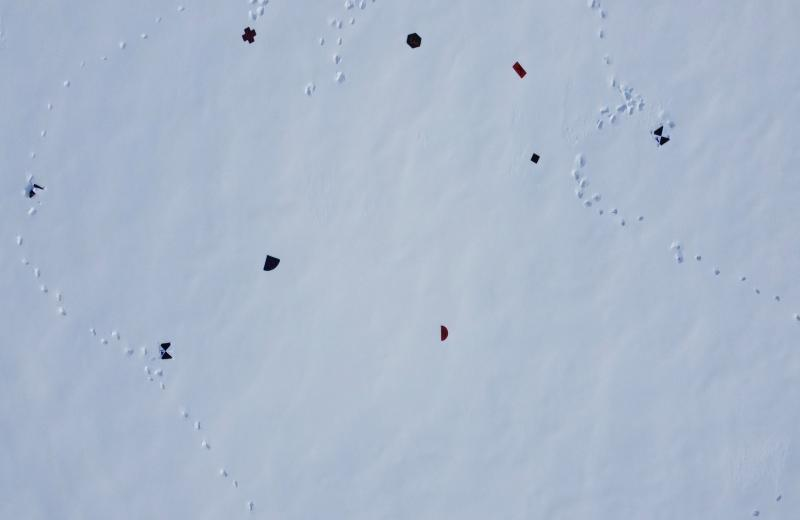Cross: (242, 27, 259, 46)
Hexagon: (405, 31, 423, 49)
Quarter Circle: (263, 254, 283, 274)
Rectangle: (512, 61, 528, 81)
Semi Circle: (439, 322, 450, 342)
Square: (529, 150, 541, 166)
